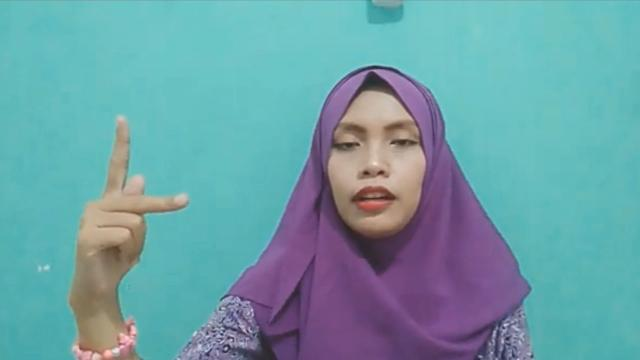K: (67, 114, 189, 316)
